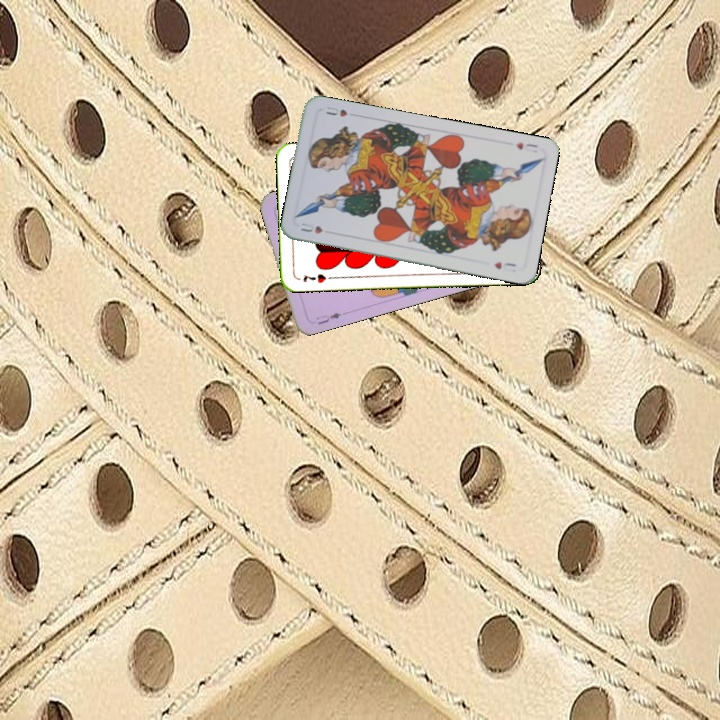EU: (312, 308, 344, 327)
H7: (299, 270, 328, 286)
HU: (296, 219, 325, 236), (511, 138, 540, 152)
